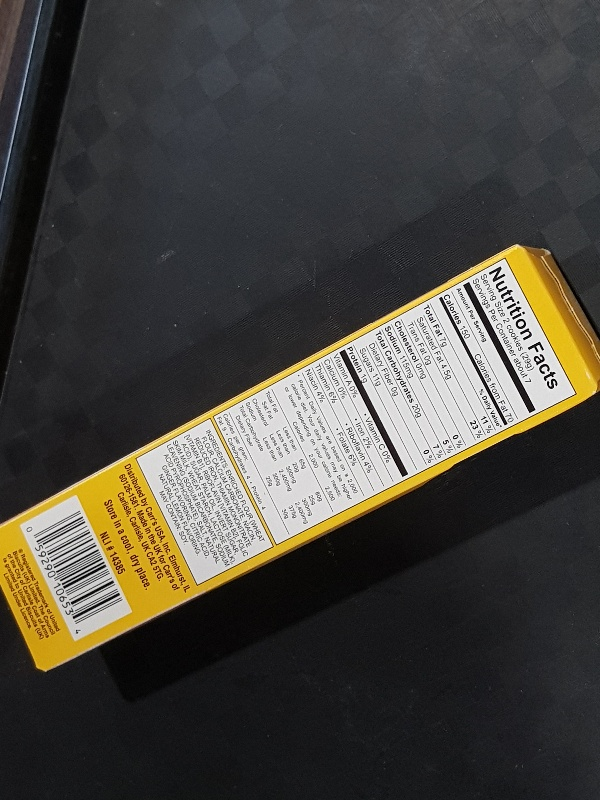Carr's Ginger Lemon Cremes: (1, 243, 600, 673)
